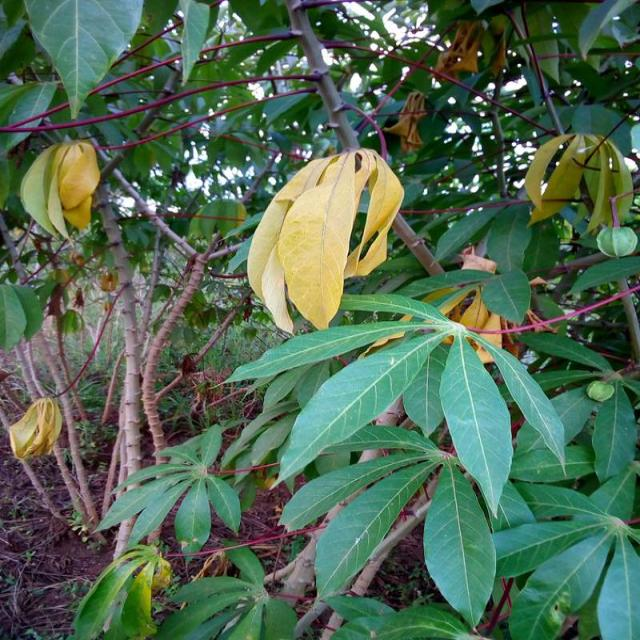cassava leaf: (246, 145, 404, 334), (22, 0, 143, 119), (438, 331, 514, 518), (422, 456, 497, 630), (19, 139, 101, 241)
